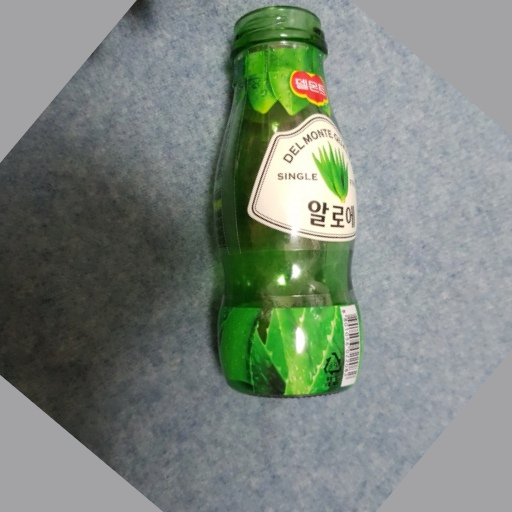Glass_4: (206, 7, 363, 402)
